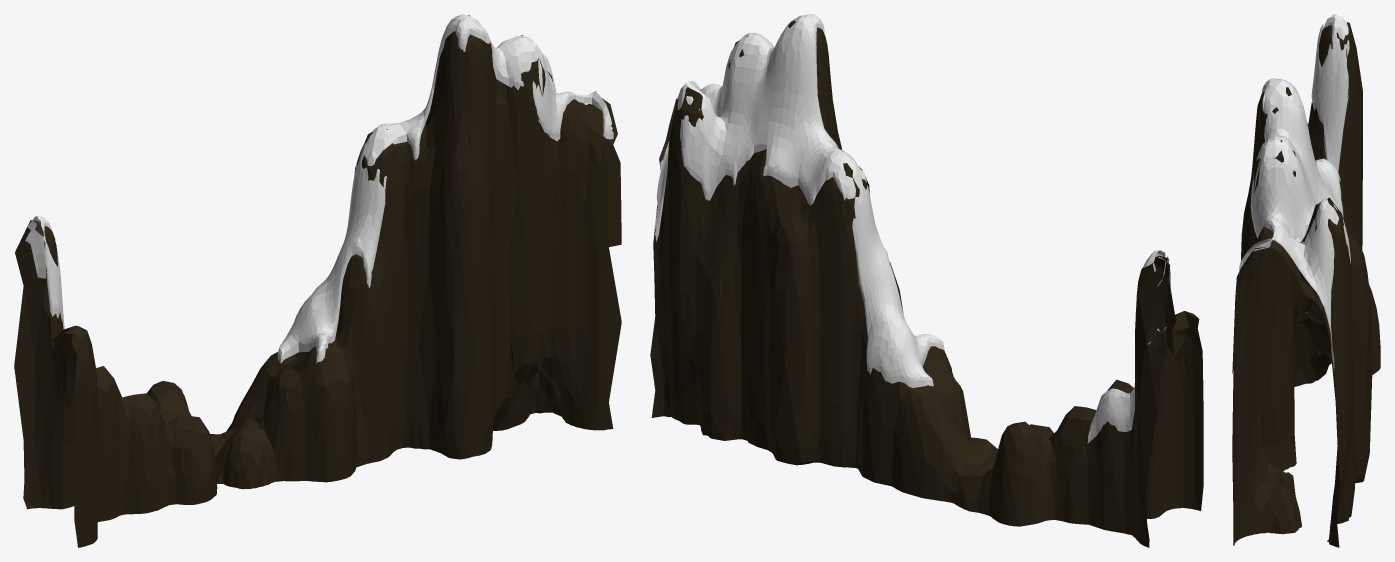
Rendered from Mtn_Wall_N1.fbx.
3 renders of one model, left to right at view 1: azimuth 30°, elevation 25°; view 2: azimuth 150°, elevation 25°; view 3: azimuth 270°, elevation 25°, orthographic. The views are drawn at different scales.
Parts seen in each view (by area): view 1: Mtn_Wall_N1; view 2: Mtn_Wall_N1; view 3: Mtn_Wall_N1.
Part boxes in pixels (x1,y1,x2,y2): Mtn_Wall_N1: (14, 14, 621, 547); Mtn_Wall_N1: (650, 14, 1203, 547); Mtn_Wall_N1: (1232, 14, 1380, 547).
Size of the model in its own units: 24212 by 18174 by 5989.
